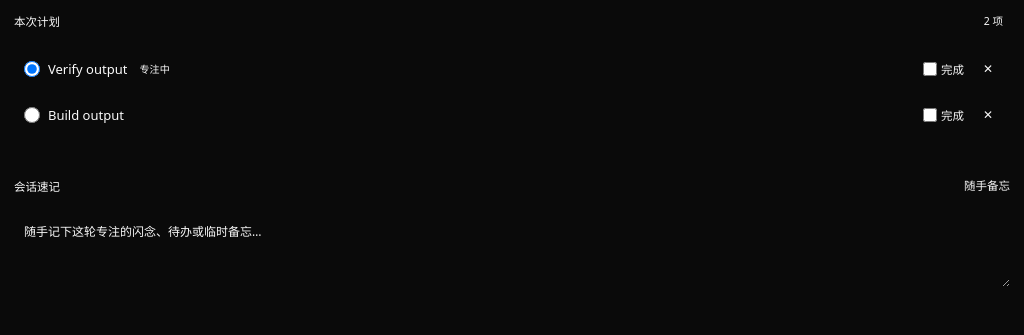
Test case: SessionWorkspace › keeps the previous current item when the Note switch flush fails
Click the button with aria-label "Work on Build output" at (86, 114), box [48,106,909,125]
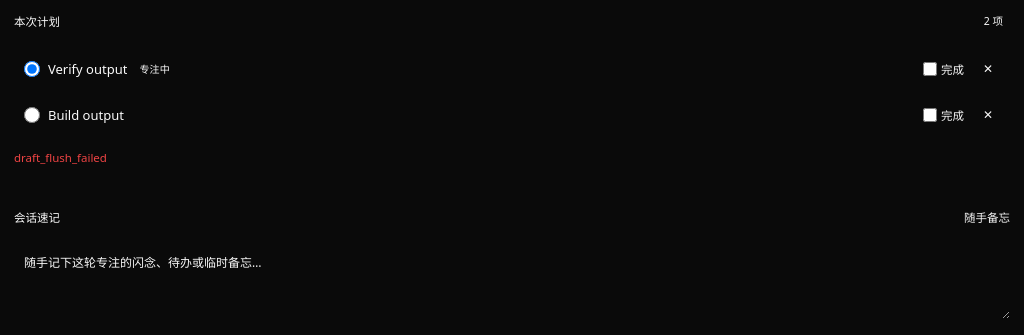
Expected: the message reads "draft_flush_failed", [14,150,107,165]
